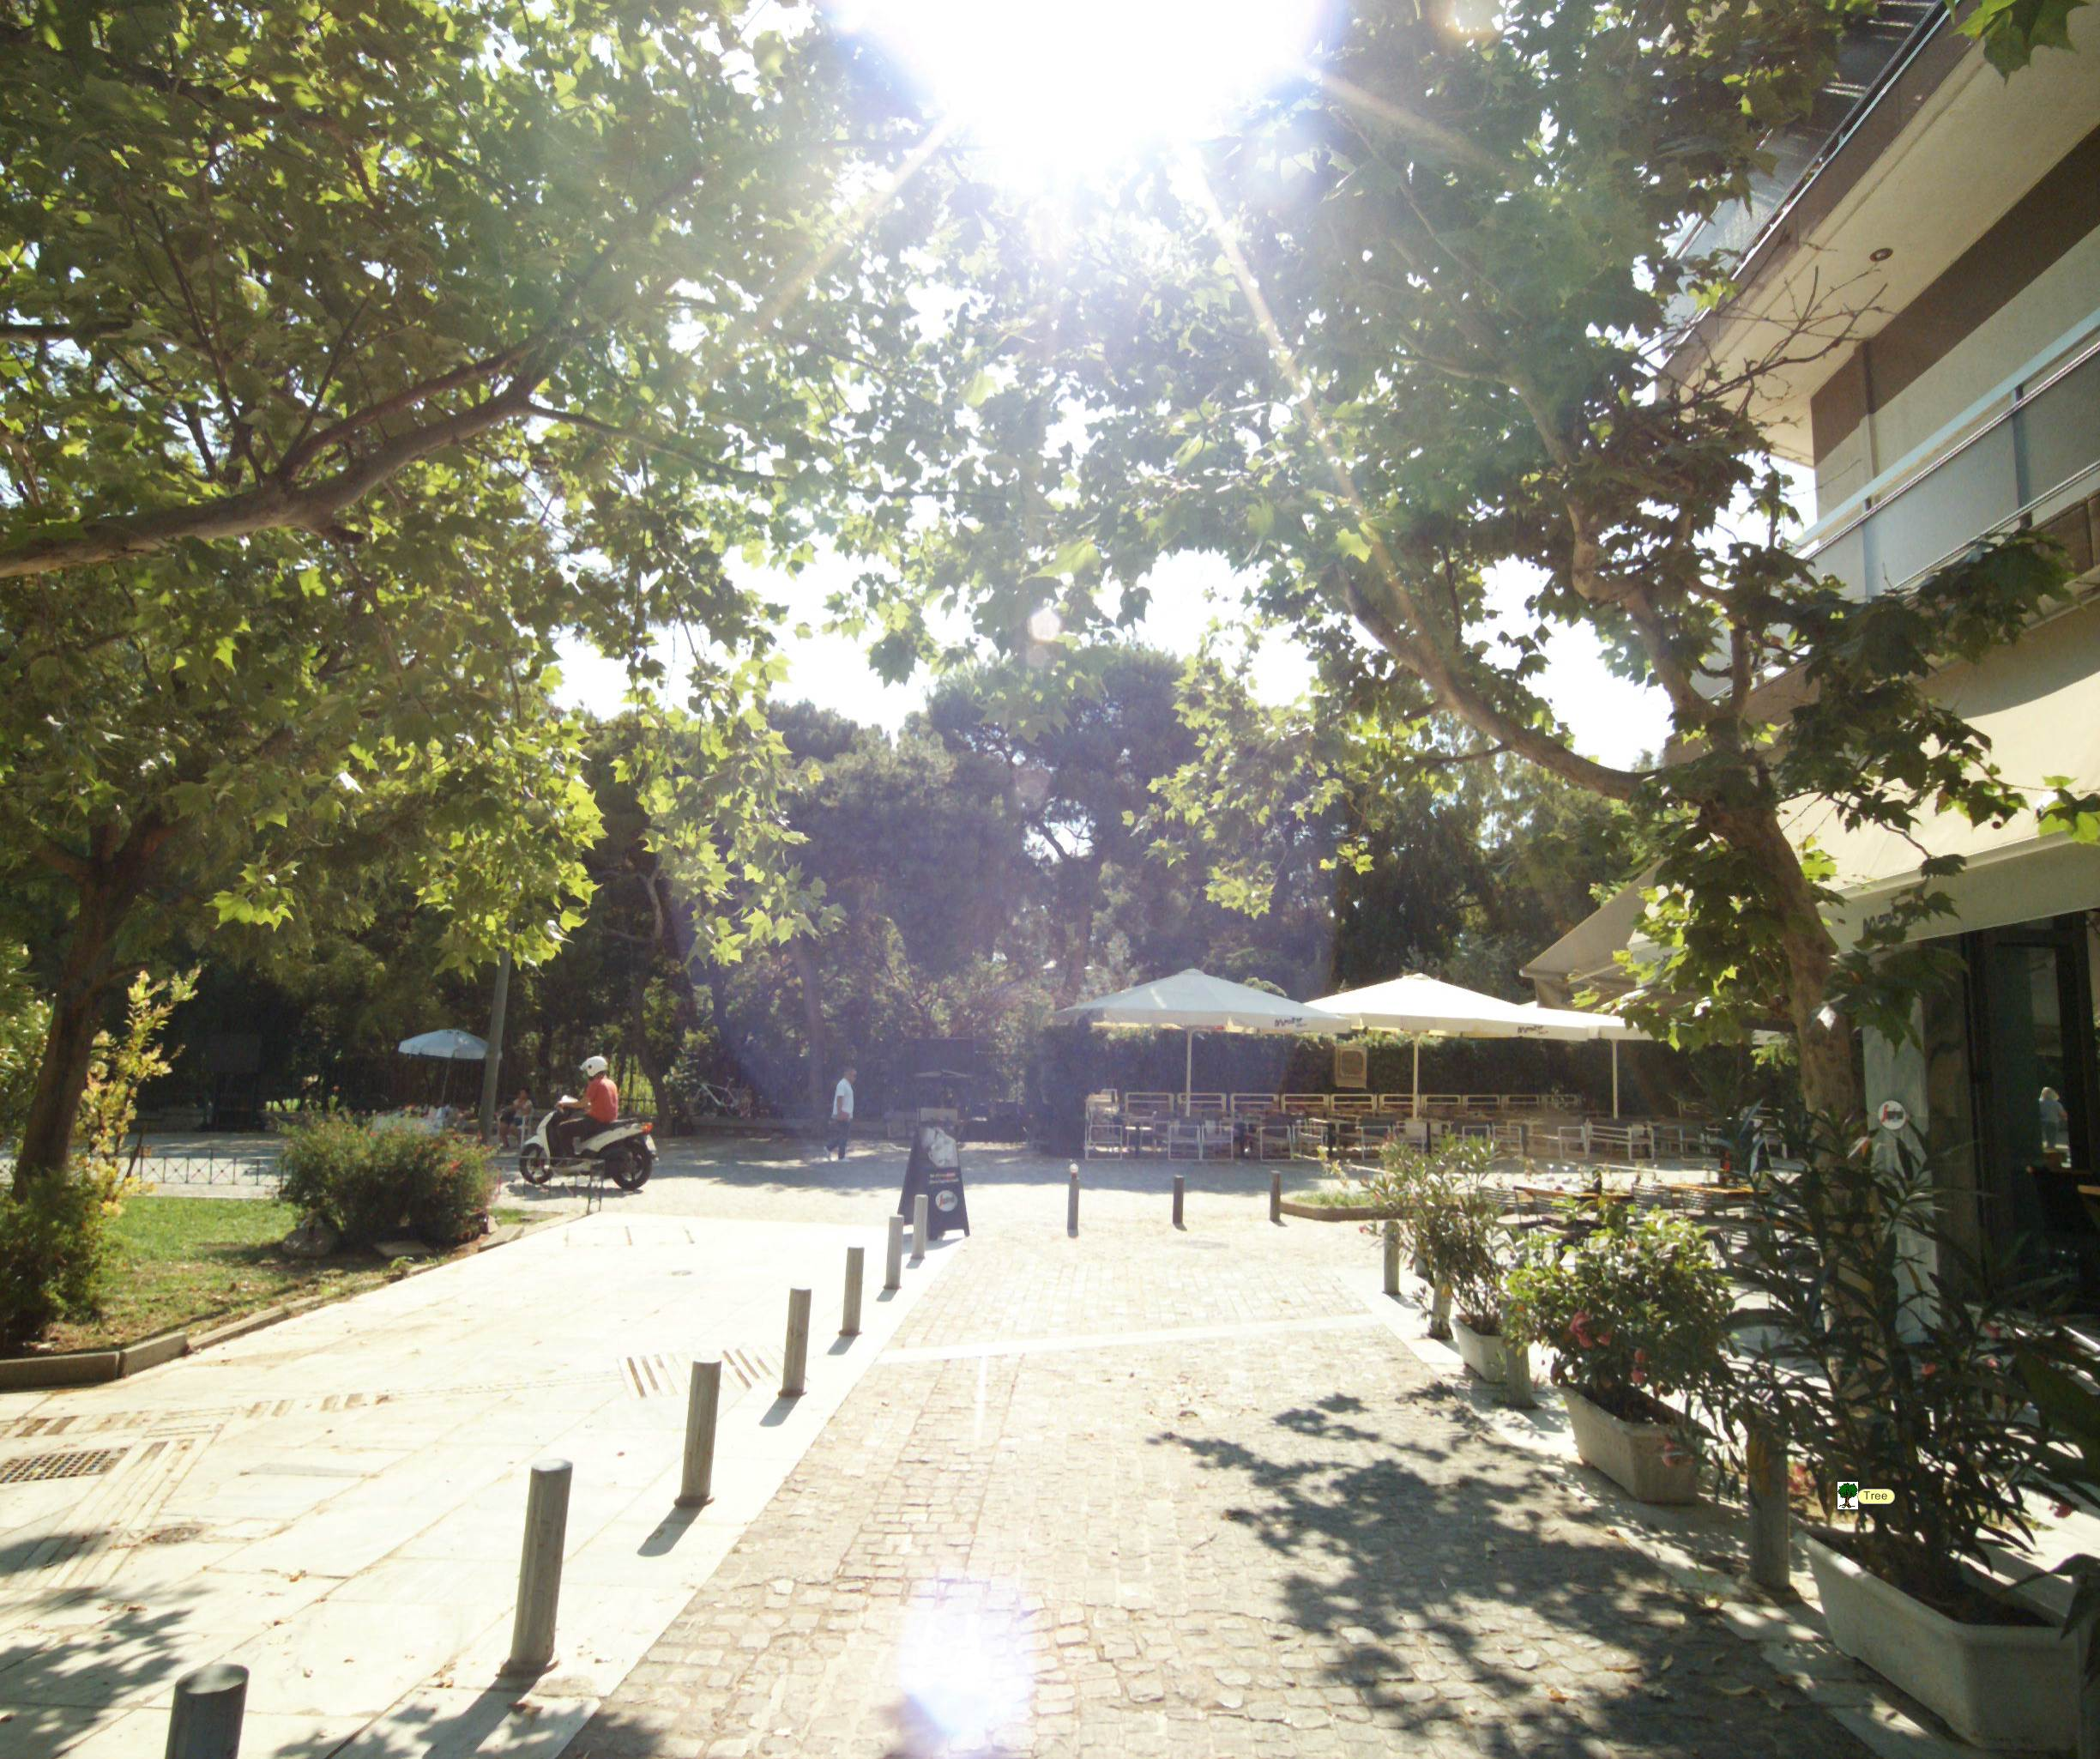tree: (820, 12, 2088, 1515)
